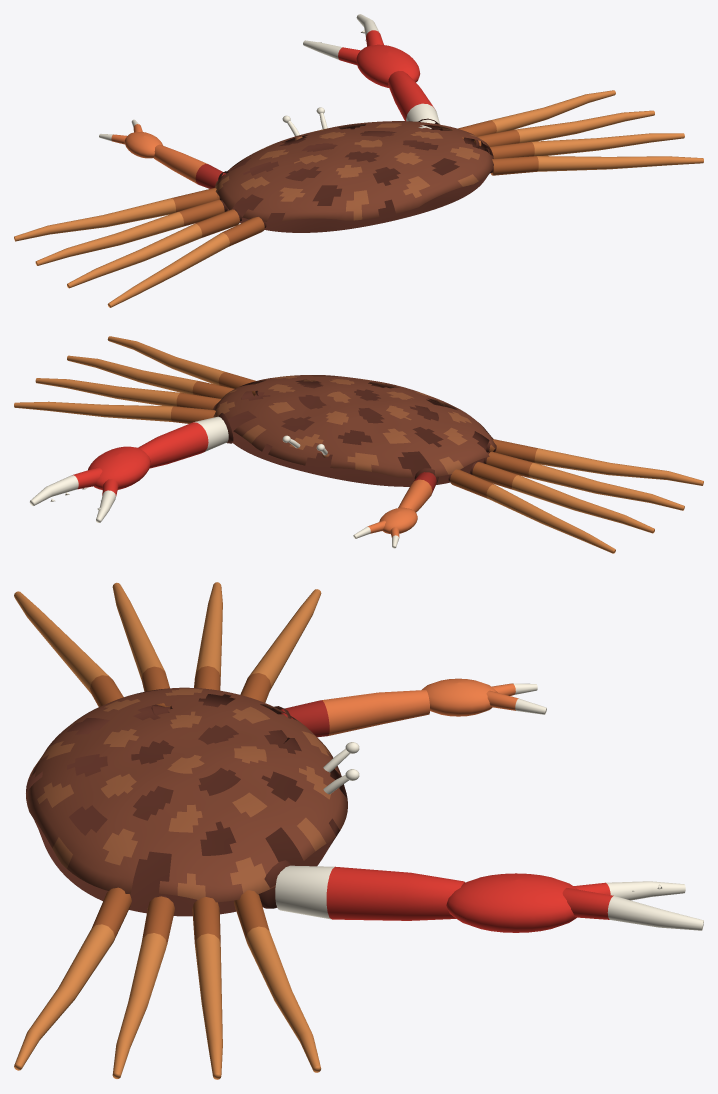
3 views of the same model, one above another, from view 1: azimuth 30°, elevation 25°; view 2: azimuth 150°, elevation 25°; view 3: azimuth 270°, elevation 25° (orthographic). The views are drawn at different scales.
Parts seen in each view (by area): view 1: carapace, walking_leg, dominant_cheliped, smaller_cheliped; view 2: carapace, walking_leg, dominant_cheliped, smaller_cheliped; view 3: carapace, walking_leg, dominant_cheliped, smaller_cheliped.
Part boxes in pixels (x1,y1,x2,y2): carapace: (214,118,493,232); walking_leg: (14,90,703,307); dominant_cheliped: (303,14,440,128); smaller_cheliped: (99,119,225,188); carapace: (212,375,496,486); walking_leg: (14,336,703,553); dominant_cheliped: (29,416,228,522); smaller_cheliped: (353,472,436,548); carapace: (26,687,347,916); walking_leg: (14,582,321,1079); dominant_cheliped: (275,865,703,932); smaller_cheliped: (280,678,546,737).
Size of the model in its own units: 7.45 by 0.5829 by 4.43.
